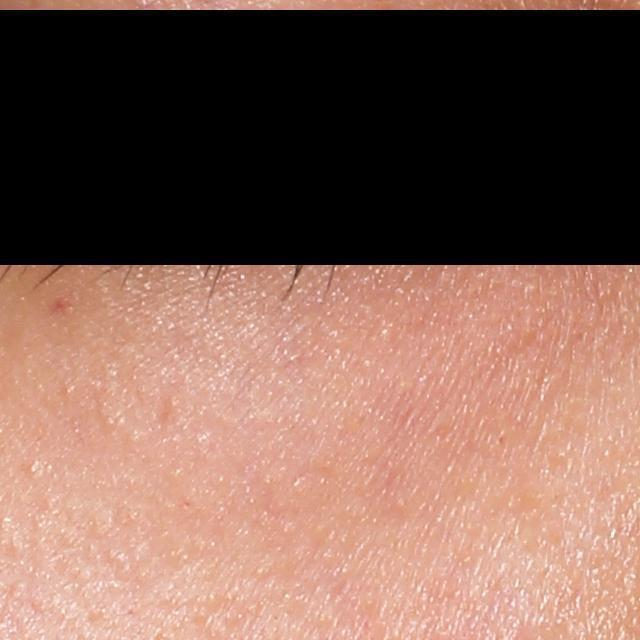comedo: (26, 461, 41, 476)
